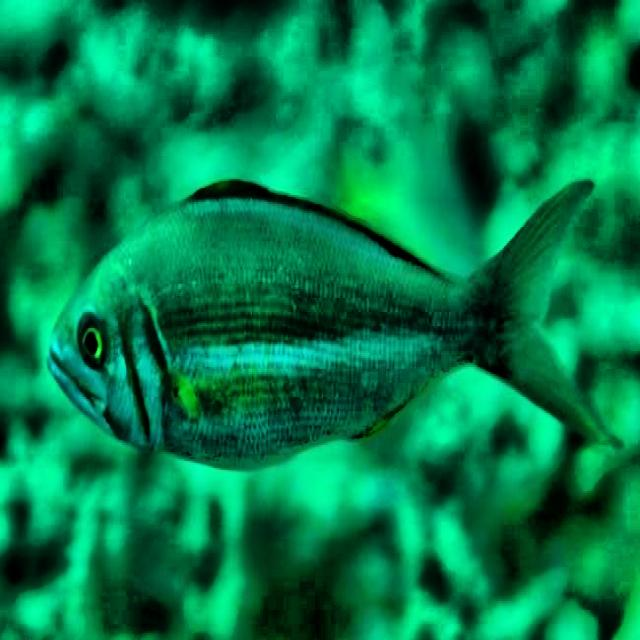fish: (48, 177, 624, 470)
